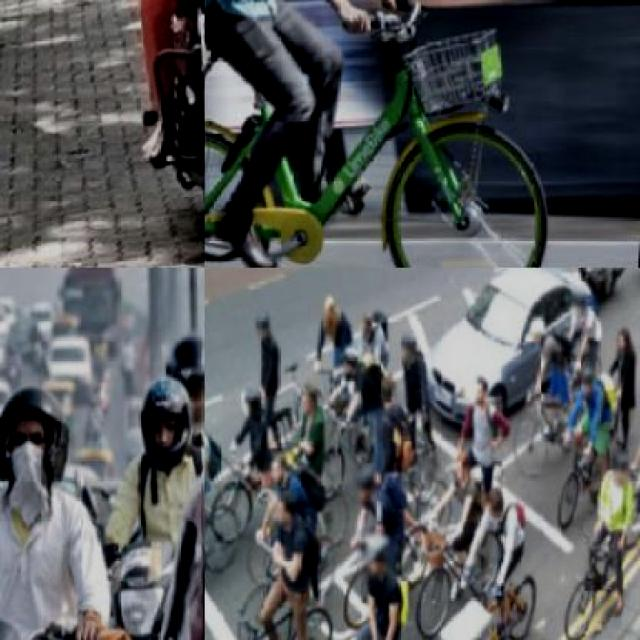With Helmet: (0, 374, 80, 494), (134, 366, 200, 465), (162, 325, 203, 432), (359, 526, 401, 580), (354, 462, 384, 511), (614, 447, 637, 488), (581, 361, 601, 402), (572, 284, 592, 318), (246, 386, 266, 420), (402, 330, 420, 364), (258, 311, 274, 340)
Without Helmet: (468, 362, 501, 411), (270, 490, 307, 530), (300, 382, 326, 422), (321, 293, 342, 332), (491, 483, 511, 519)
